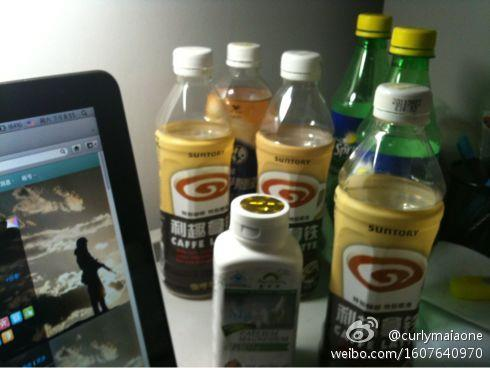Suntory_Caffe_Latte: (160, 138, 237, 250)
